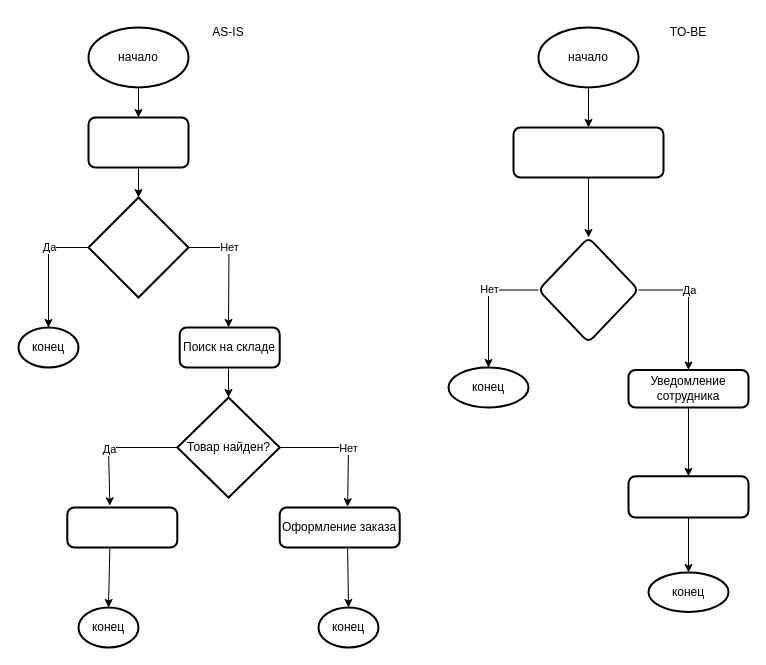
Image size: 766x665. Some labels were removed from this diagram. Here are the shapes that lost their labels. From the top down, the centre of each, then its label:
At (138,142): "Проверка полок".
At (588,152): "Система отслеживает остатки".
At (138,247): "Товар есть?".
At (588,289): "Остаток ниже порога?".
At (688,496): "Пополнение товара".
At (122,527): "Пополнение полки".
